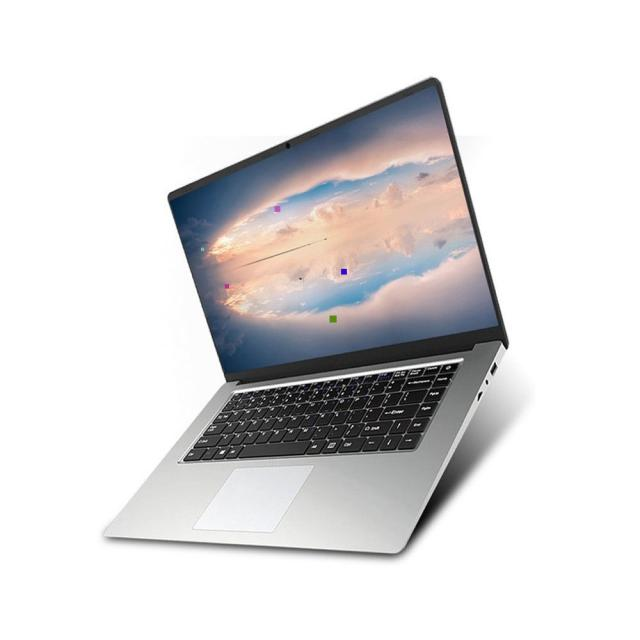dead_pixel: (330, 316, 336, 322), (341, 269, 346, 274), (275, 206, 280, 211), (225, 284, 228, 288), (201, 248, 204, 250), (300, 278, 301, 279)
